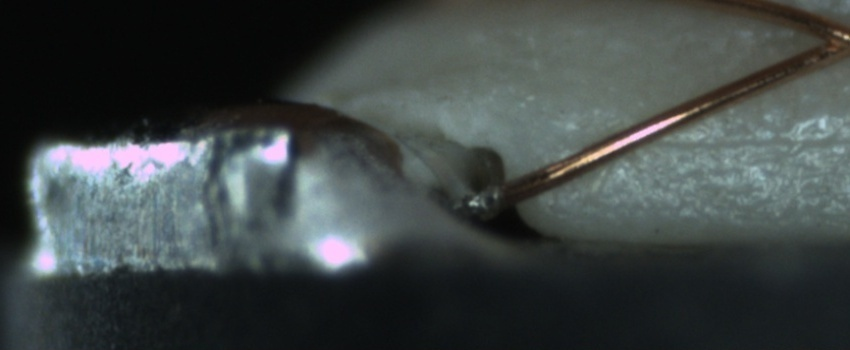CL: (797, 8, 850, 67)
DL: (638, 109, 849, 172)
